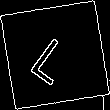L_NE: (27, 25, 83, 85)
